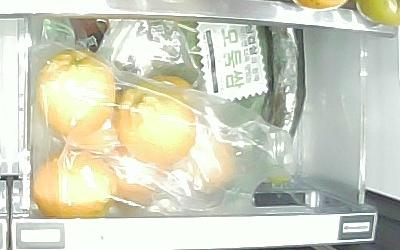orange_vinyl: (36, 52, 115, 141), (116, 83, 198, 165), (30, 151, 115, 218), (103, 149, 165, 203), (182, 134, 235, 188)
